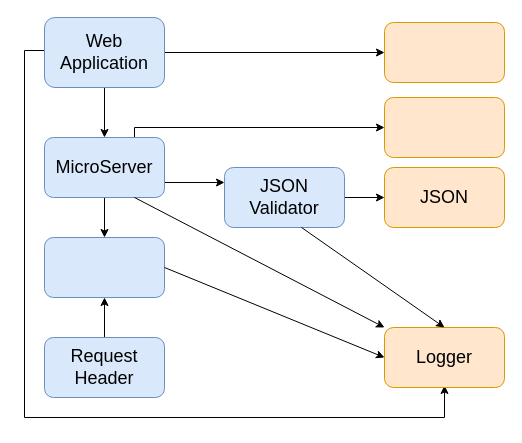
This 522x443 diagram has some shape labels left out. The shapes that lost their labels are listed below. From the top down, each one's centre as x and y in pixels, then its label:
At (444,52): "GSON".
At (444,127): "Spark".
At (104,267): "Config Request".
